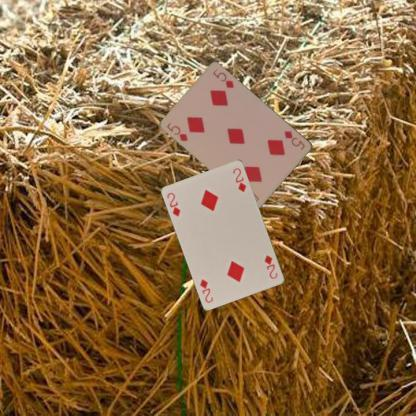2d: (262, 252, 280, 280), (165, 190, 182, 218)
5d: (282, 128, 307, 152), (164, 119, 190, 142)
